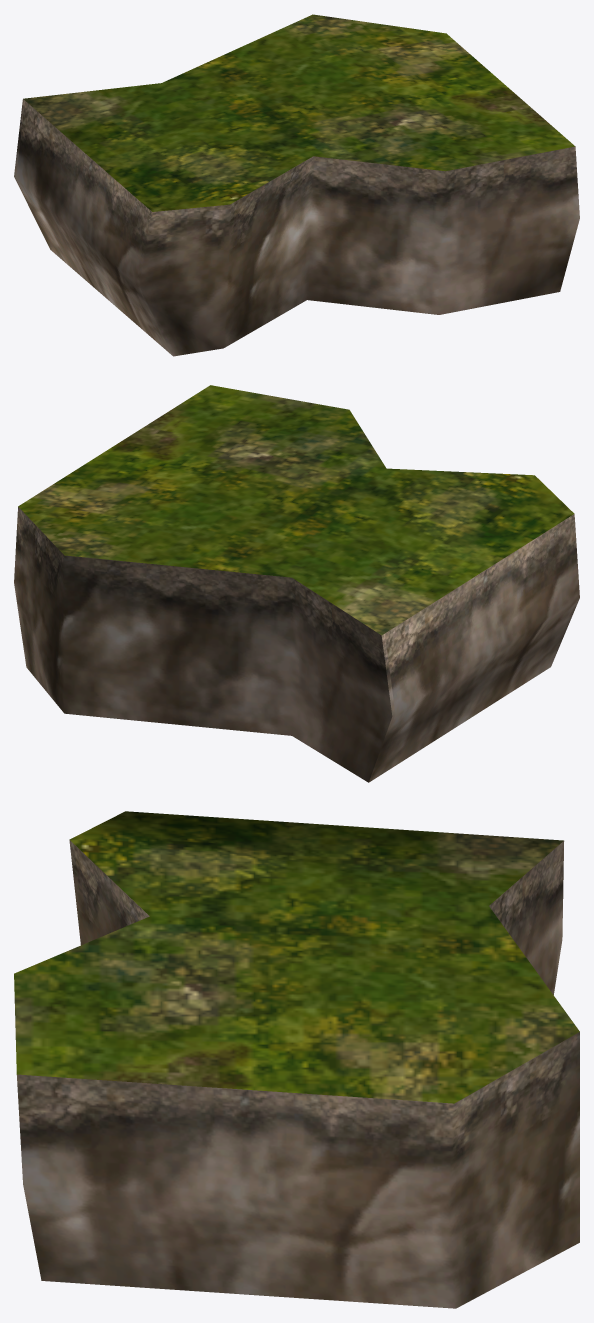
File: ANIMATEDINSTANCES_BAT_ROCKFALL_02__BA.fbx
3 views of the same model, one above another, from view 1: azimuth 30°, elevation 25°; view 2: azimuth 150°, elevation 25°; view 3: azimuth 270°, elevation 25° (orthographic). The views are drawn at different scales.
Visible parts, largest first — view 1: ANIMATEDINSTANCES_BAT_ROCKFALL_02__BA; view 2: ANIMATEDINSTANCES_BAT_ROCKFALL_02__BA; view 3: ANIMATEDINSTANCES_BAT_ROCKFALL_02__BA.
Part boxes in pixels (x1,y1,x2,y2): ANIMATEDINSTANCES_BAT_ROCKFALL_02__BA: (14, 14, 579, 356); ANIMATEDINSTANCES_BAT_ROCKFALL_02__BA: (14, 385, 579, 782); ANIMATEDINSTANCES_BAT_ROCKFALL_02__BA: (14, 811, 579, 1308).
Bounding box in the file's own units: 12747 × 4749 × 10459.
Materials: 3 (3 with a texture image).
